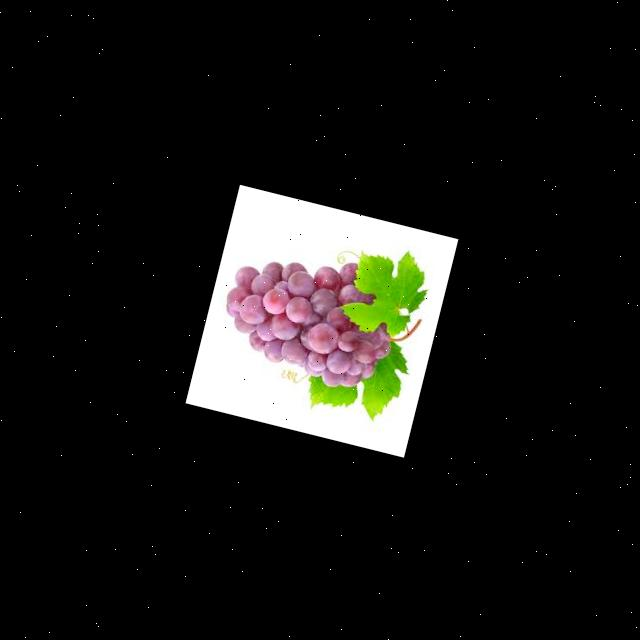grape: (210, 234, 408, 398)
